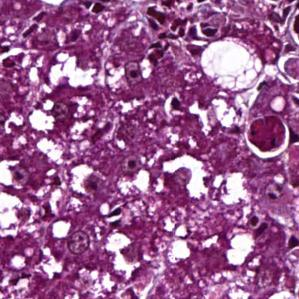ballooning: (198, 35, 264, 93)
